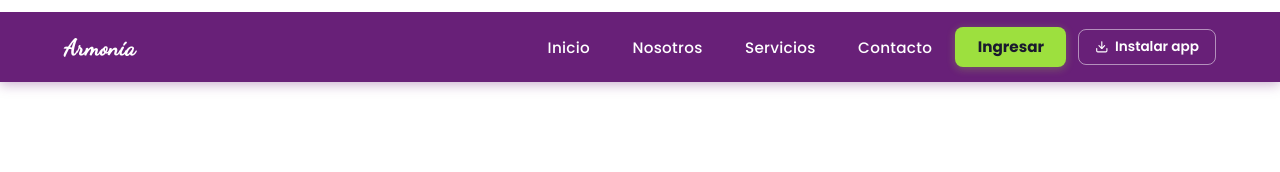
Scenario: "Instalar app" aparece solo cuando el navegador ofrece instalar la PWA
Click the button "Instalar app". click: point(1147, 47)
box: [1078, 29, 1216, 65]
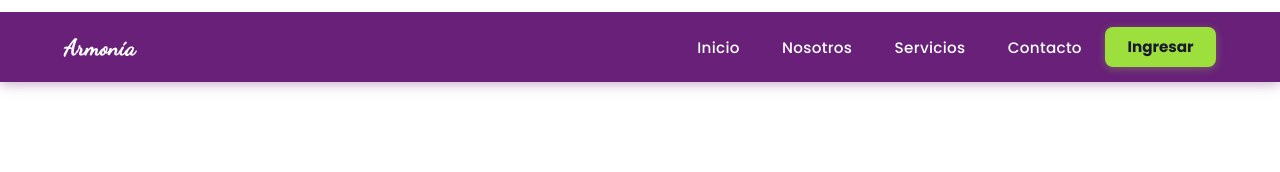
Expected: the button "Instalar app" is gone
